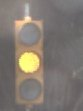Yellow: (5, 14, 53, 111)
